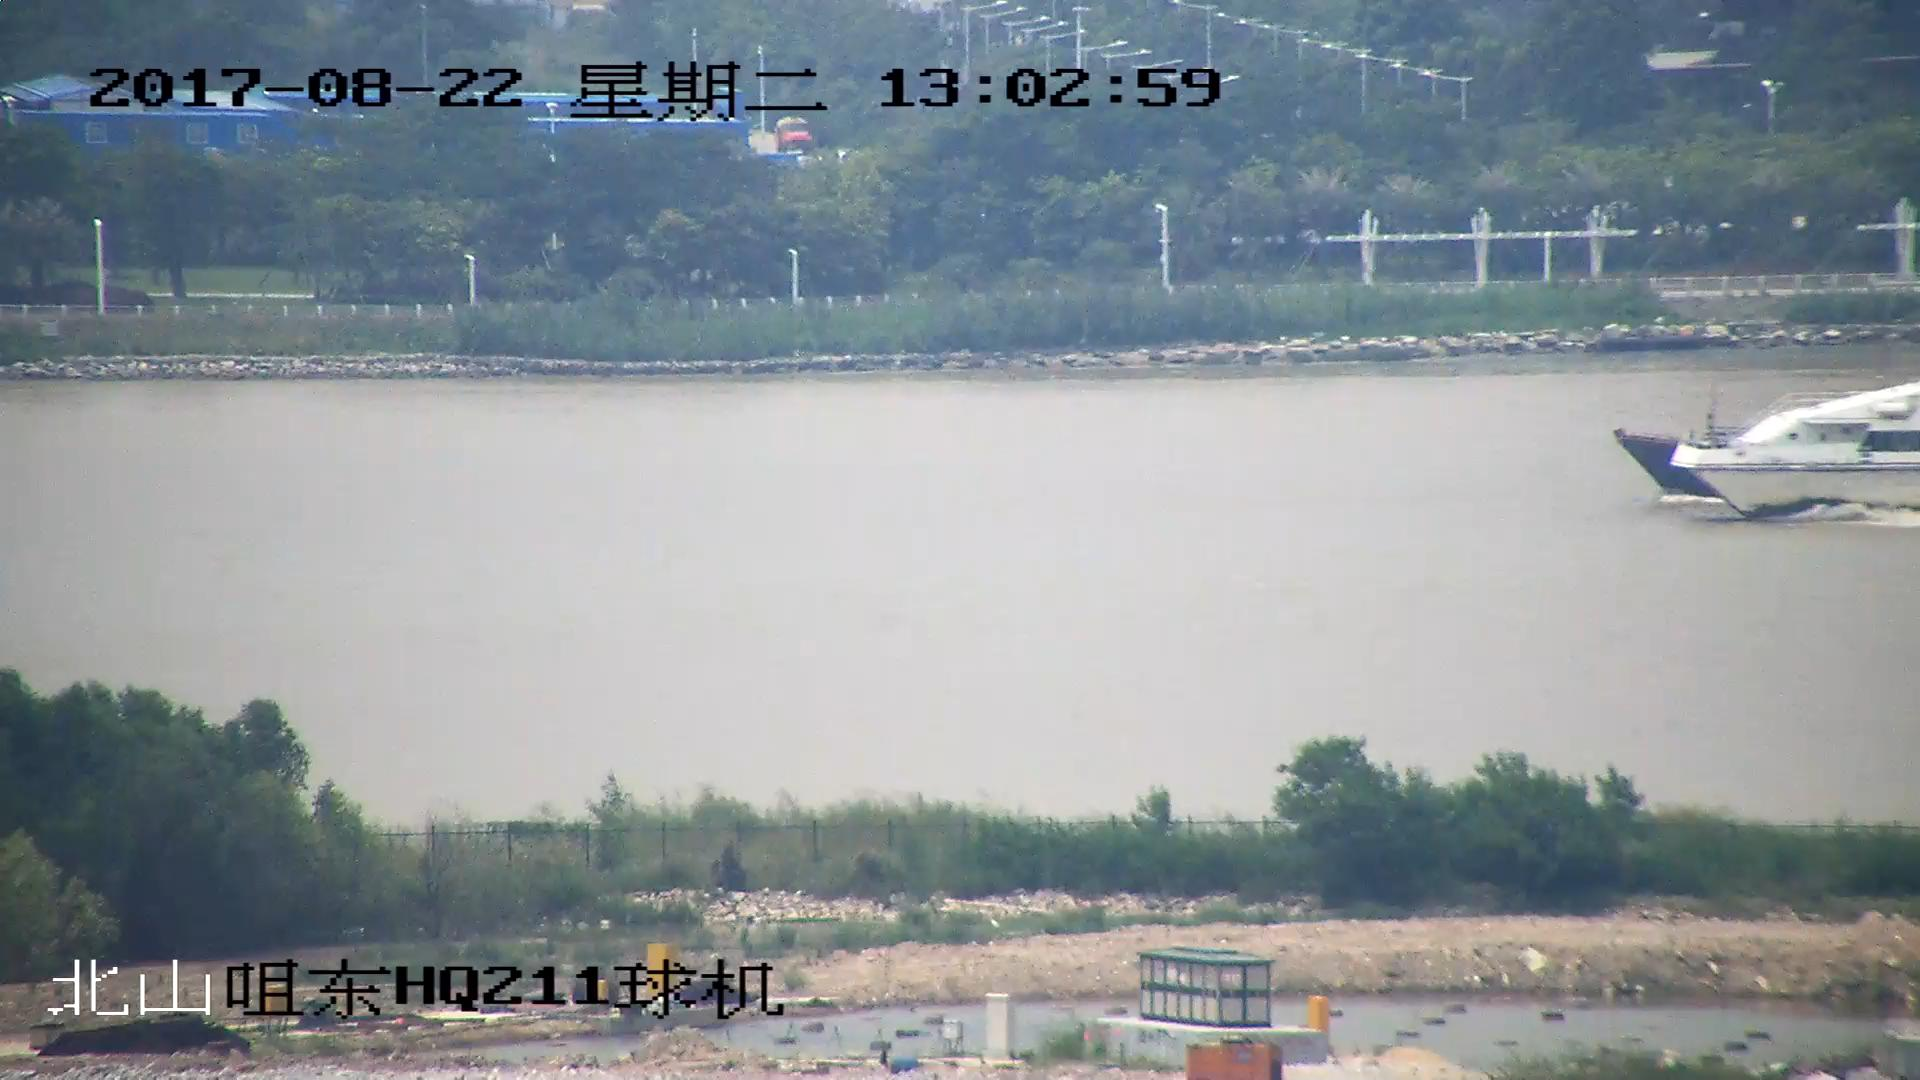passenger ship: (1612, 387, 1920, 519)
